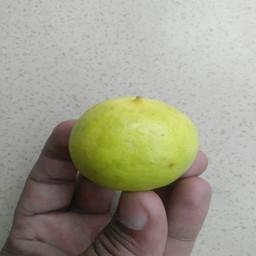Good_lime: (70, 90, 201, 191)
